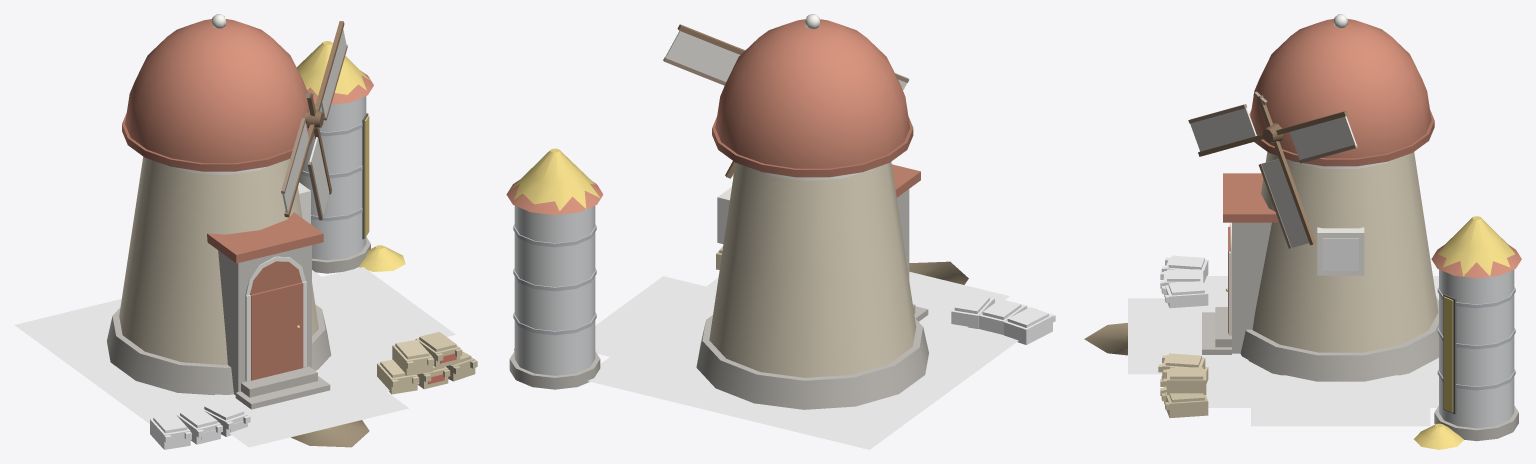
Rendered from feed_mill_1.glb.
3 views of the same model, side by side, from view 1: azimuth 30°, elevation 25°; view 2: azimuth 150°, elevation 25°; view 3: azimuth 270°, elevation 25° (orthographic). The views are drawn at different scales.
Visible parts, largest first — view 1: body5, feed_mill_1, when_plan_true, body4, body; view 2: body5, feed_mill_1, when_plan_true, body4, body; view 3: body5, feed_mill_1, body4, when_plan_true, body, body3.
Boxes of the visible parts, box(x1,y1,x2,y2) form: body5: box(107, 14, 477, 447); feed_mill_1: box(14, 267, 455, 447); when_plan_true: box(150, 400, 250, 449); body4: box(296, 41, 405, 271); body: box(307, 70, 373, 239); body5: box(509, 14, 968, 409); feed_mill_1: box(588, 271, 1018, 449); when_plan_true: box(951, 293, 1055, 344); body4: box(510, 148, 599, 350); body: box(506, 180, 603, 214); body5: box(1084, 14, 1518, 441); feed_mill_1: box(1128, 276, 1438, 426); body4: box(1414, 216, 1514, 449); when_plan_true: box(1160, 255, 1208, 308); body: box(1431, 244, 1521, 414); body3: box(1443, 335, 1453, 411).
Size of the model in its own units: 2.7 by 2.3 by 2.8.
